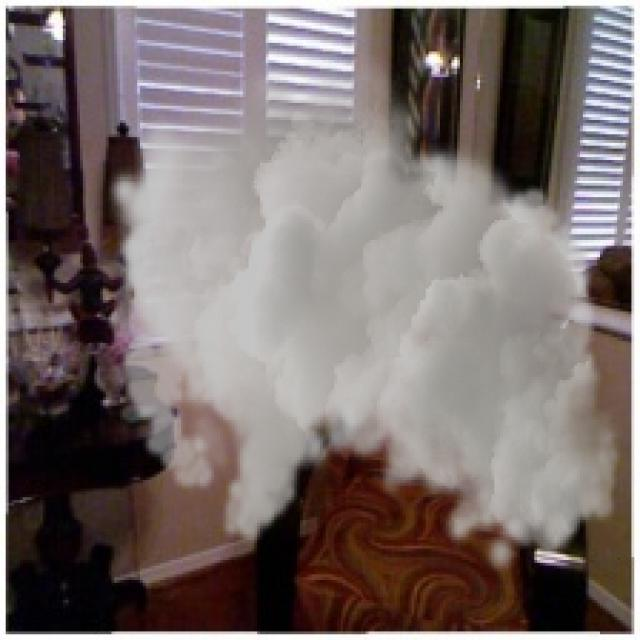smoke: (106, 49, 623, 577)
